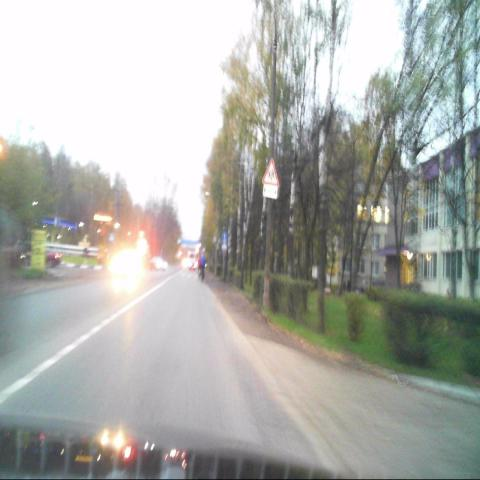1_23: (262, 157, 279, 186)
8_2_1: (262, 185, 278, 199)
